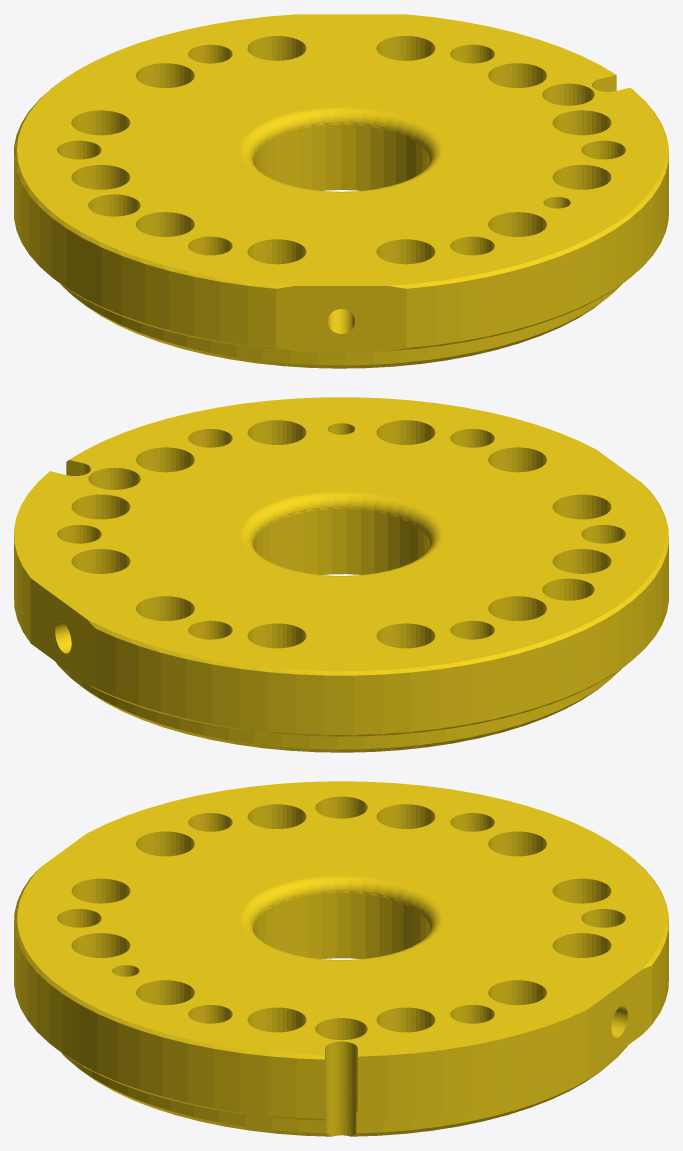
3 views of the same model, one above another, from view 1: azimuth 30°, elevation 25°; view 2: azimuth 150°, elevation 25°; view 3: azimuth 270°, elevation 25° (orthographic).
Parts seen in each view (by area): view 1: Visual; view 2: Visual; view 3: Visual.
Part boxes in pixels (left/top/right/bottom): Visual: left=14, top=14, right=668, bottom=368; Visual: left=14, top=397, right=668, bottom=752; Visual: left=14, top=781, right=668, bottom=1136.
Bounding box in the file's own units: 0.0999 × 0.1 × 0.0158.
